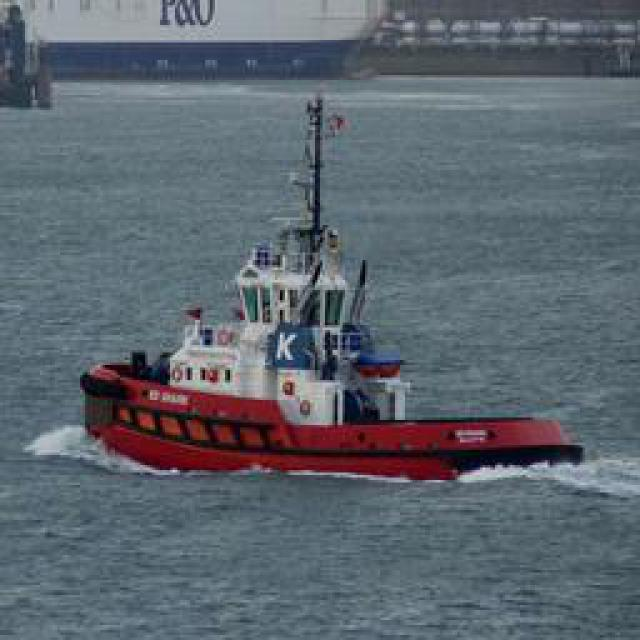Ship: (73, 104, 588, 477)
